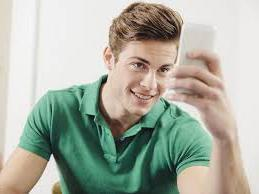face: (117, 37, 177, 117)
